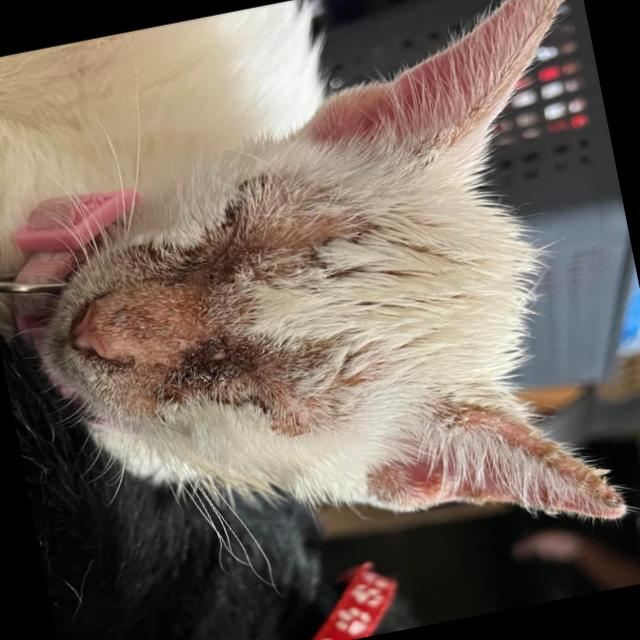Ringworm: (217, 336, 323, 433), (257, 188, 360, 272), (158, 262, 232, 352), (458, 394, 532, 454), (554, 453, 616, 509), (447, 486, 492, 506)
